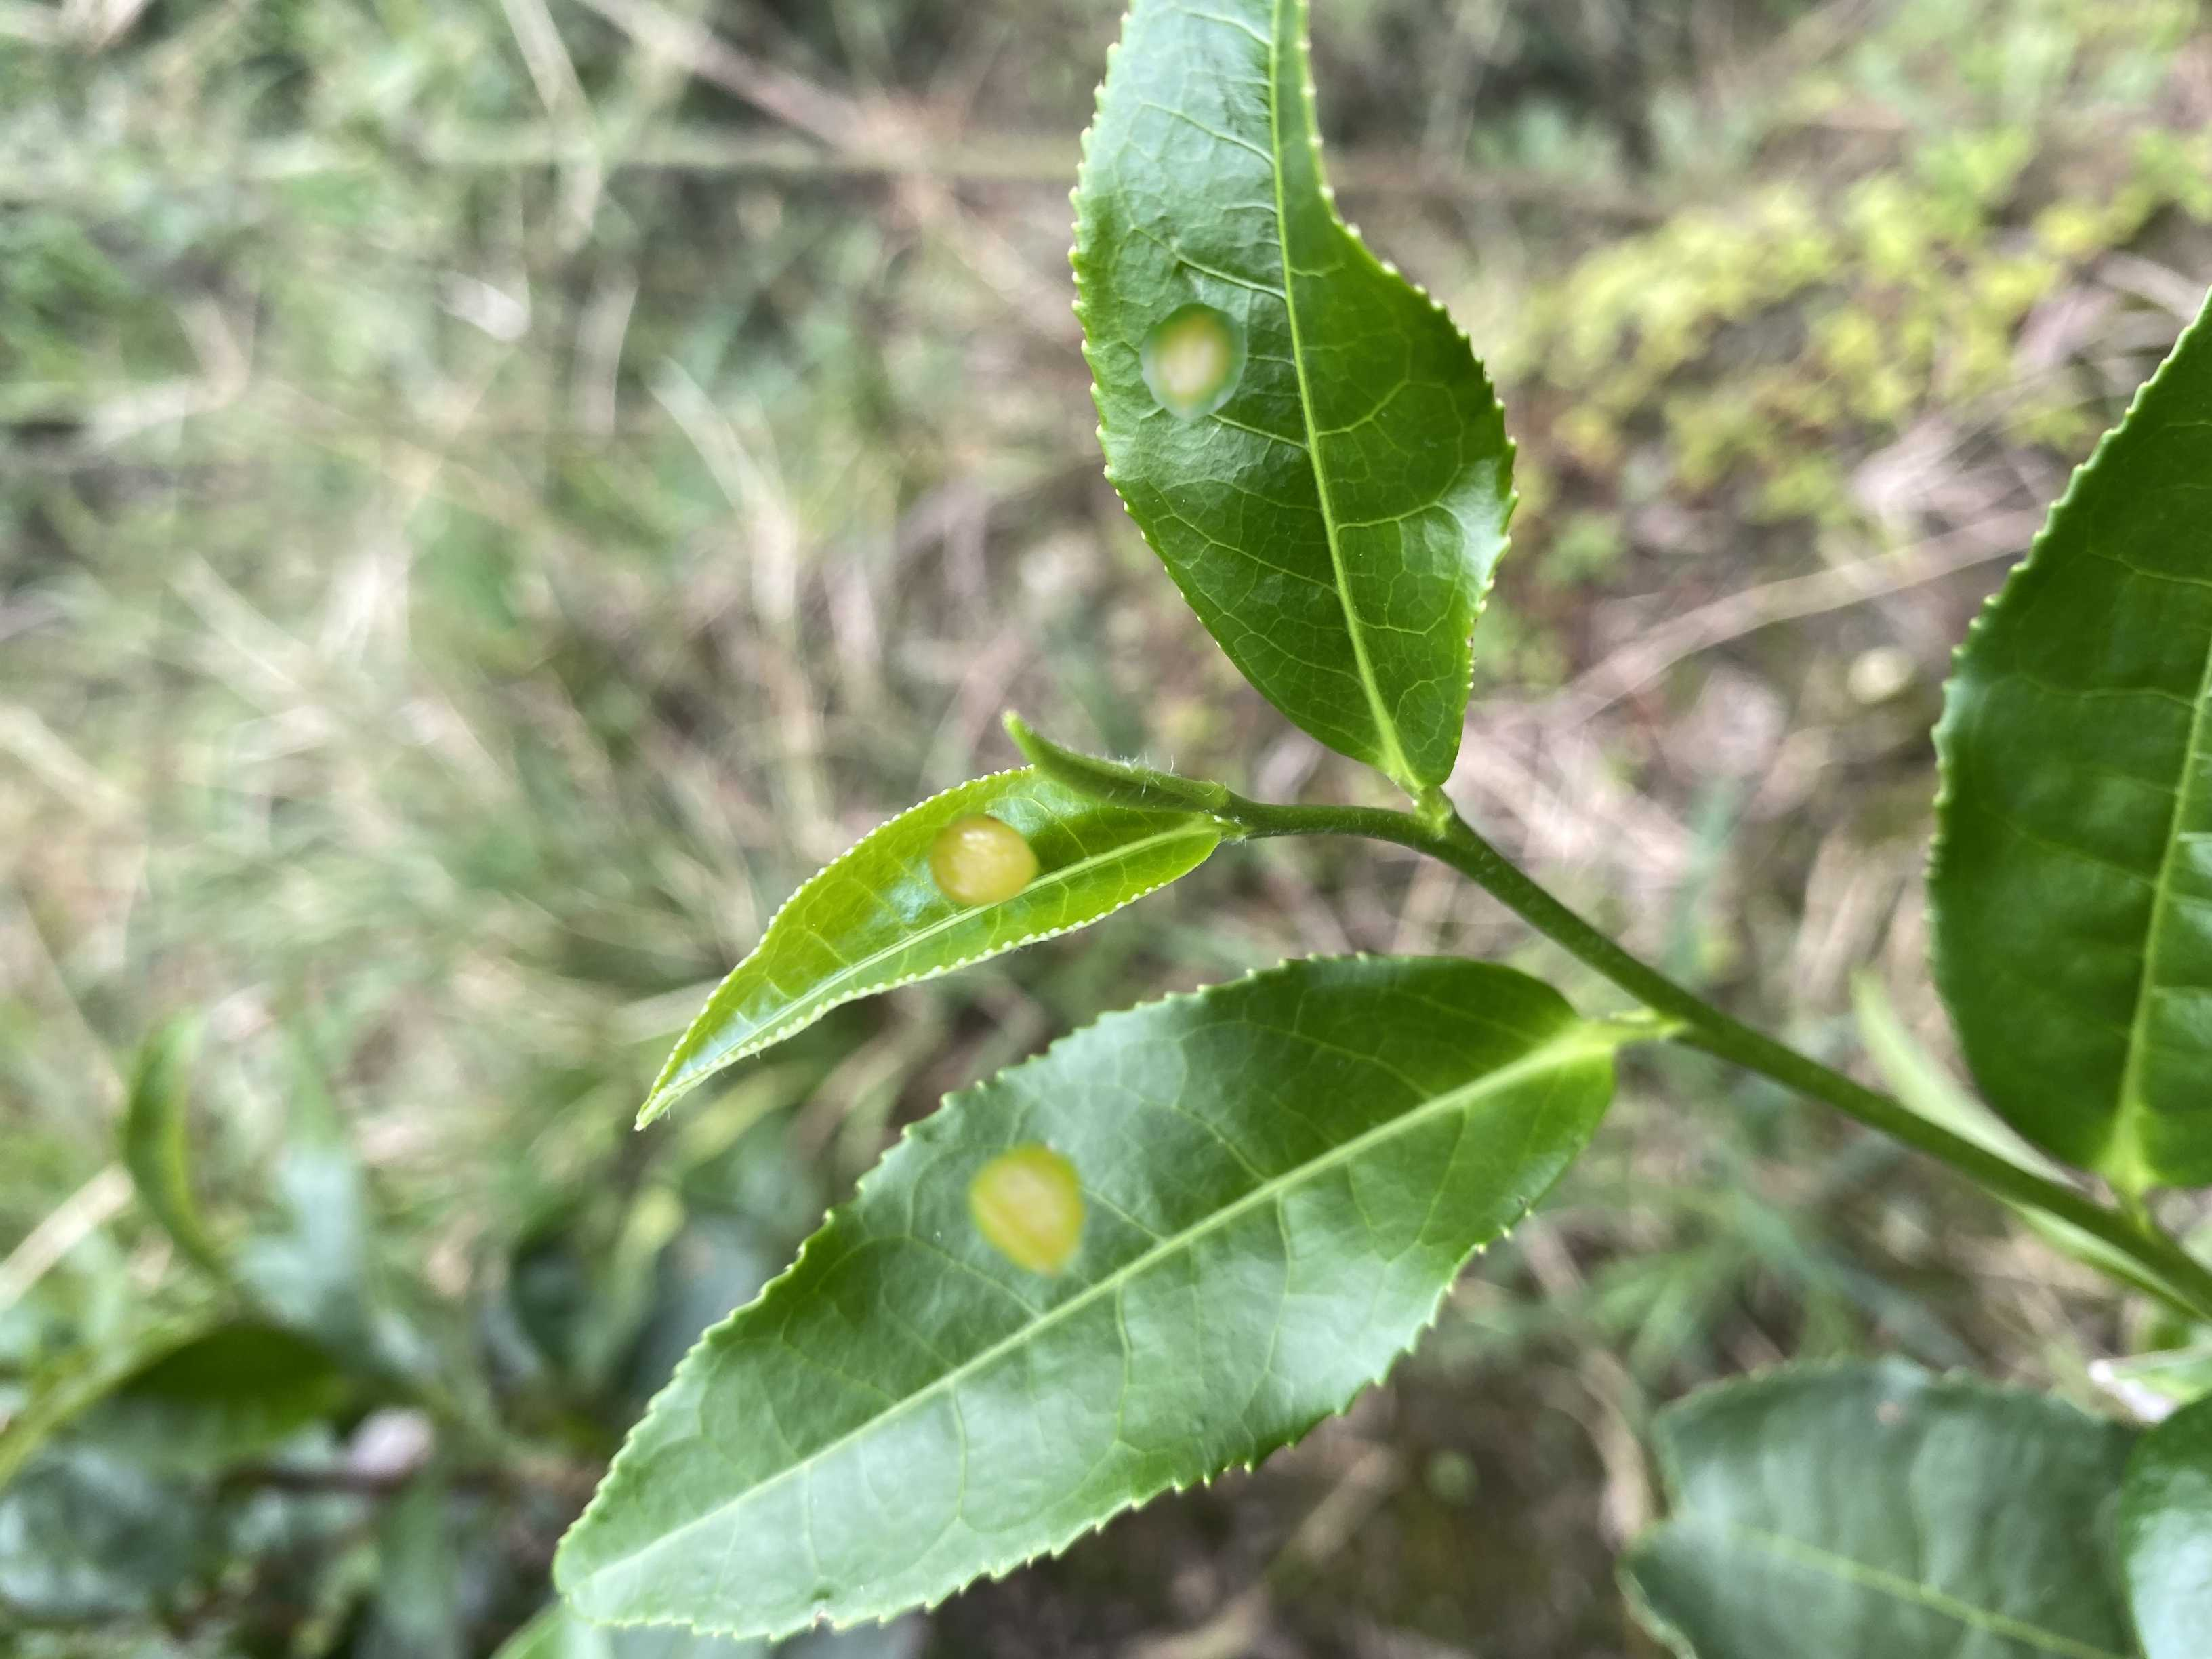chabing_low: (550, 948, 1632, 1643), (1068, 3, 1522, 796), (629, 763, 1231, 1131)
